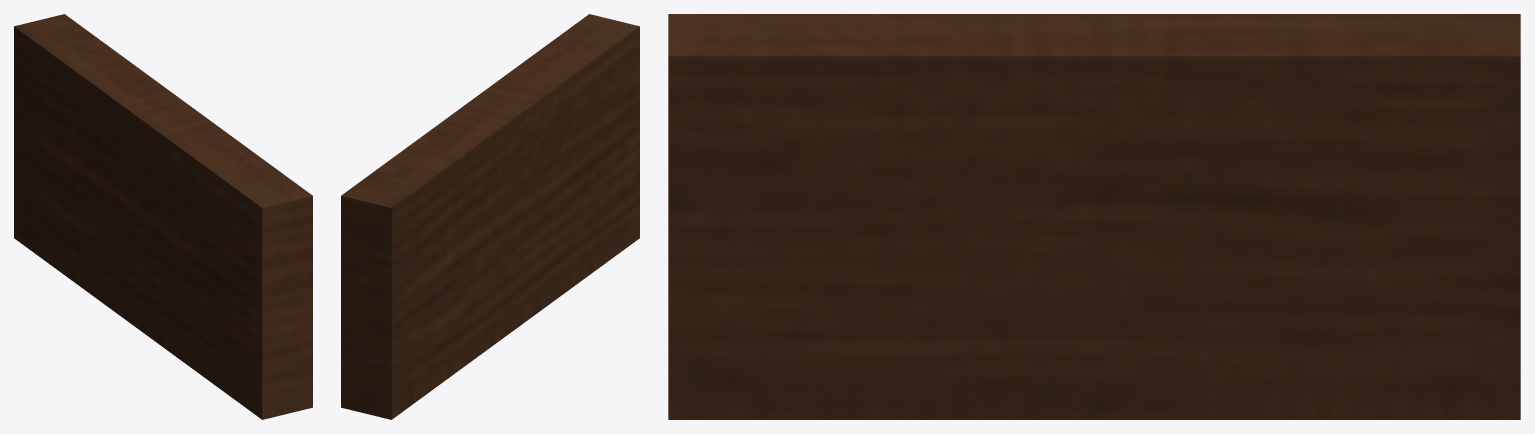
File: link_8__other_leaf-146.glb
The picture shows the model from 3 angles, left to right: view 1: azimuth 30°, elevation 25°; view 2: azimuth 150°, elevation 25°; view 3: azimuth 270°, elevation 25°; orthographic projection. The views are drawn at different scales.
Parts seen in each view (by area): view 1: geometry_0; view 2: geometry_0; view 3: geometry_0.
Boxes of the visible parts, bbox=[...] form: geometry_0: bbox=[14, 14, 312, 419]; geometry_0: bbox=[341, 14, 639, 419]; geometry_0: bbox=[668, 14, 1520, 419].
Bounding box in the file's own units: 0.021 × 0.084 × 0.1785.
Materials: 1 (1 with a texture image).
